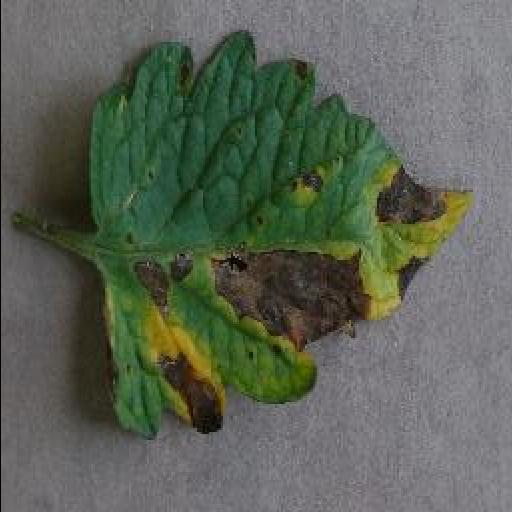disease_tomato: (86, 27, 476, 443)
